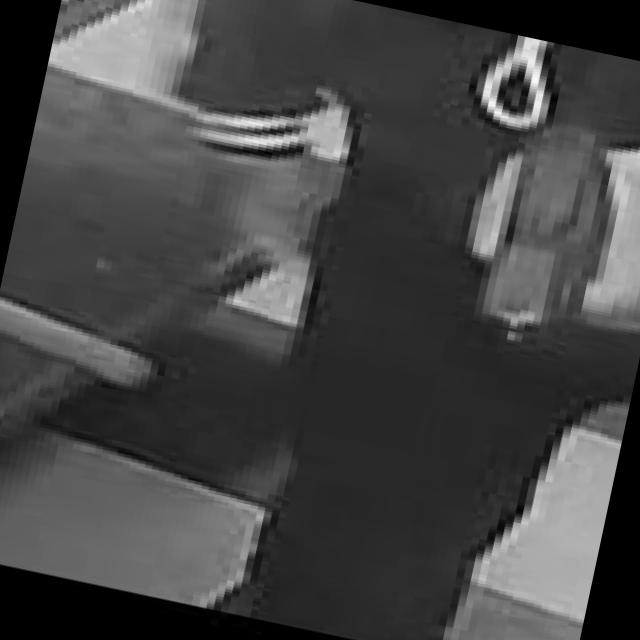Guns: (379, 87, 640, 386)
